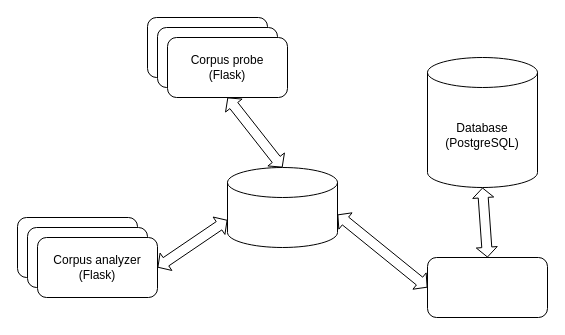
Image size: 565x335. Some labels were removed from this diagram. Here are the shapes that lost their labels. From the top down, the box of each, then its label:
(226, 166, 338, 248): Broker (RabbitMQ)
(426, 256, 548, 318): UI Admin + API (Django)
